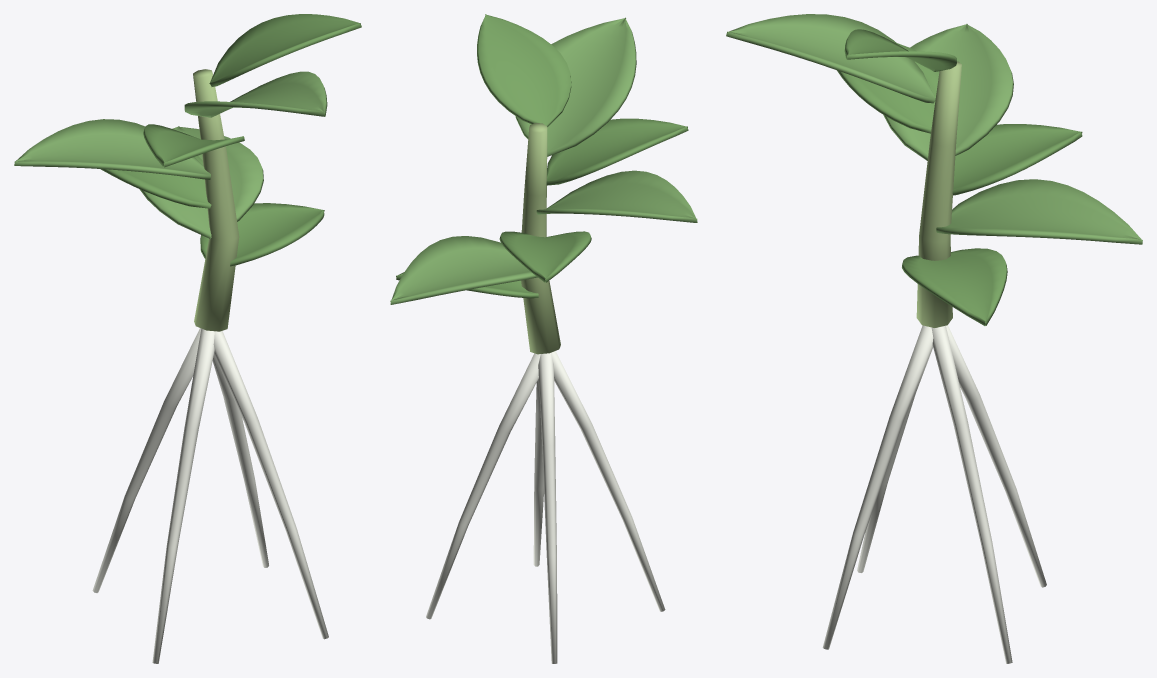
Rendered from plantlet.glb.
3 views of the same model, side by side, from view 1: azimuth 30°, elevation 25°; view 2: azimuth 150°, elevation 25°; view 3: azimuth 270°, elevation 25° (orthographic). The views are drawn at different scales.
Parts seen in each view (by area): view 1: plantlet, plantlet_stem; view 2: plantlet, plantlet_stem; view 3: plantlet, plantlet_stem.
Boxes of the visible parts, left/top/right/bottom form: plantlet: left=14, top=14, right=361, bottom=663; plantlet_stem: left=193, top=69, right=239, bottom=331; plantlet: left=390, top=14, right=697, bottom=663; plantlet_stem: left=521, top=123, right=560, bottom=354; plantlet: left=726, top=14, right=1142, bottom=663; plantlet_stem: left=916, top=61, right=961, bottom=327.
Bounding box in the file's own units: 0.0462 × 0.0825 × 0.0505.
